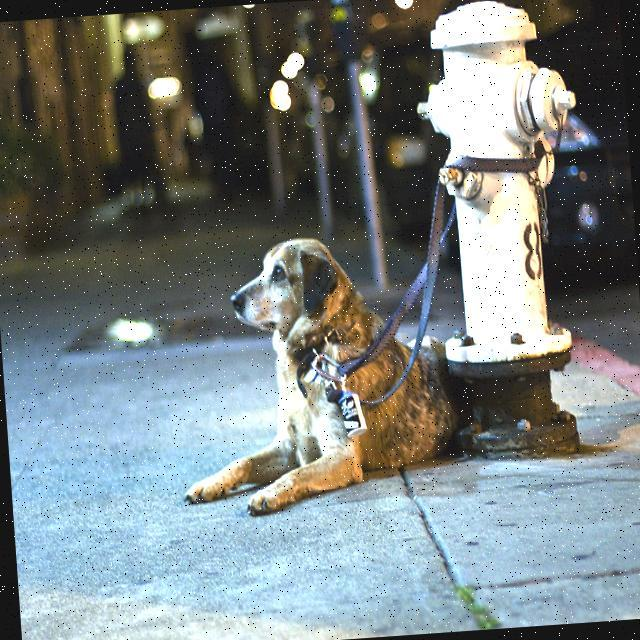fire_hydrant: (411, 0, 604, 464)
